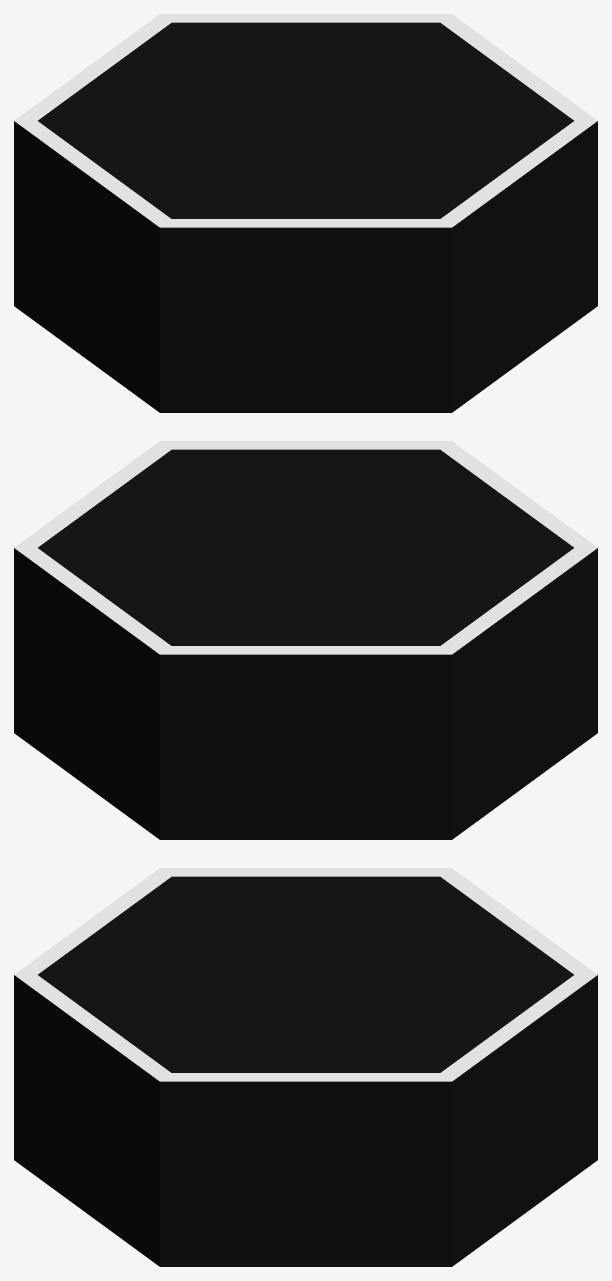
Rendered from 2tile1.glb.
The picture shows the model from 3 angles, top to bottom: view 1: azimuth 30°, elevation 25°; view 2: azimuth 150°, elevation 25°; view 3: azimuth 270°, elevation 25°; orthographic projection.
Parts seen in each view (by area): view 1: ChessHalfTile; view 2: ChessHalfTile; view 3: ChessHalfTile.
Boxes of the visible parts, x1=… form: ChessHalfTile: x1=14, y1=14, x2=597, y2=412; ChessHalfTile: x1=14, y1=441, x2=597, y2=839; ChessHalfTile: x1=14, y1=868, x2=597, y2=1266.
Bounding box in the file's own units: 1.73 × 0.7 × 2.
Materials: 1 (1 with a texture image).
